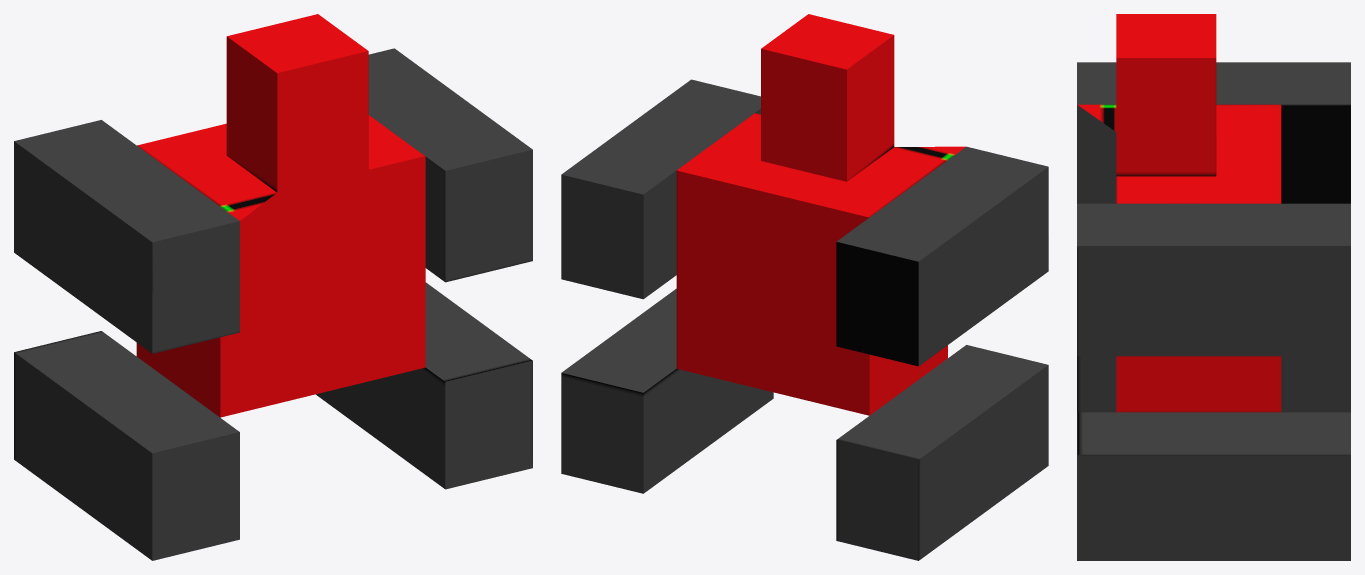
The model's file is Robot.FBX.
3 views of the same model, side by side, from view 1: azimuth 30°, elevation 25°; view 2: azimuth 150°, elevation 25°; view 3: azimuth 270°, elevation 25° (orthographic). The views are drawn at different scales.
Parts seen in each view (by area): view 1: Robot; view 2: Robot; view 3: Robot.
Boxes of the visible parts, box(x1,y1,x2,y2) form: Robot: box(14, 14, 532, 560); Robot: box(561, 14, 1048, 560); Robot: box(1077, 14, 1350, 560).
Size of the model in its own units: 500 by 315 by 550.
1 material, 1 textured.
